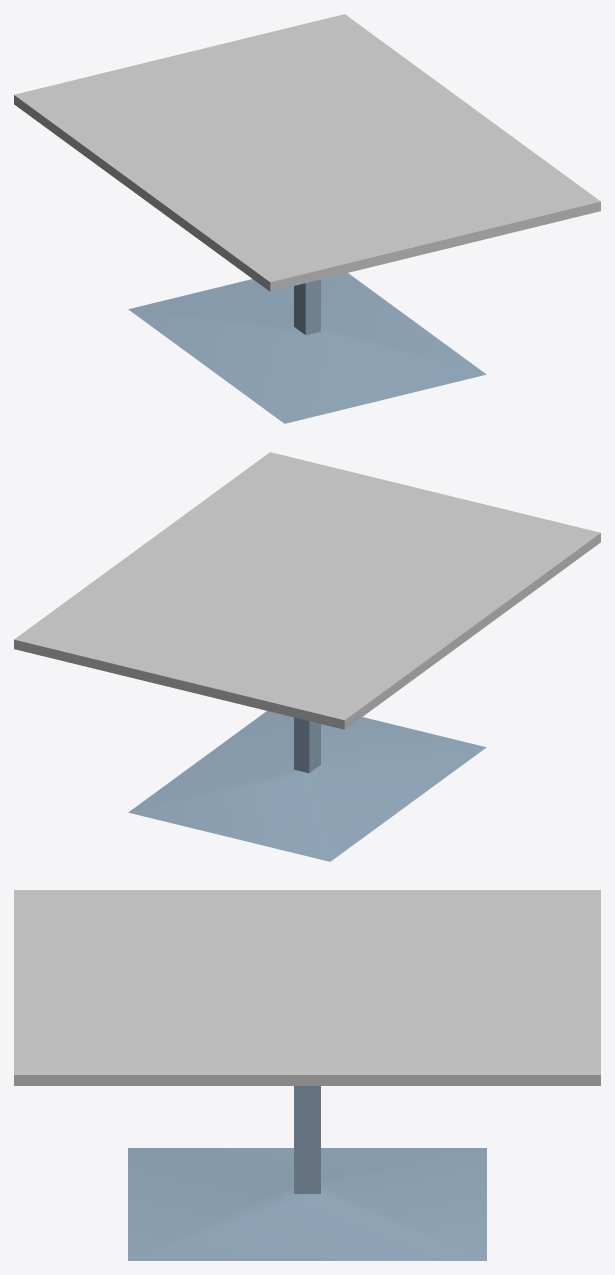
Rendered from cafe_table_scaled.dae.
3 views of the same model, one above another, from view 1: azimuth 30°, elevation 25°; view 2: azimuth 150°, elevation 25°; view 3: azimuth 270°, elevation 25° (orthographic). The views are drawn at different scales.
Visible parts, largest first — view 1: Top_Square_004, SketchUp, Top_Square_003; view 2: Top_Square_004, SketchUp, Top_Square_003; view 3: Top_Square_004, SketchUp, Top_Square_003.
Part boxes in pixels (x1,y1,x2,y2): Top_Square_004: (14,14,600,282); SketchUp: (128,273,486,423); Top_Square_003: (14,95,600,291); Top_Square_004: (14,452,600,720); SketchUp: (128,711,486,861); Top_Square_003: (14,533,600,729); Top_Square_004: (14,890,600,1074); SketchUp: (128,1086,486,1260); Top_Square_003: (14,1075,600,1085).
Size of the model in its own units: 0.6669 by 0.8945 by 0.3732.
